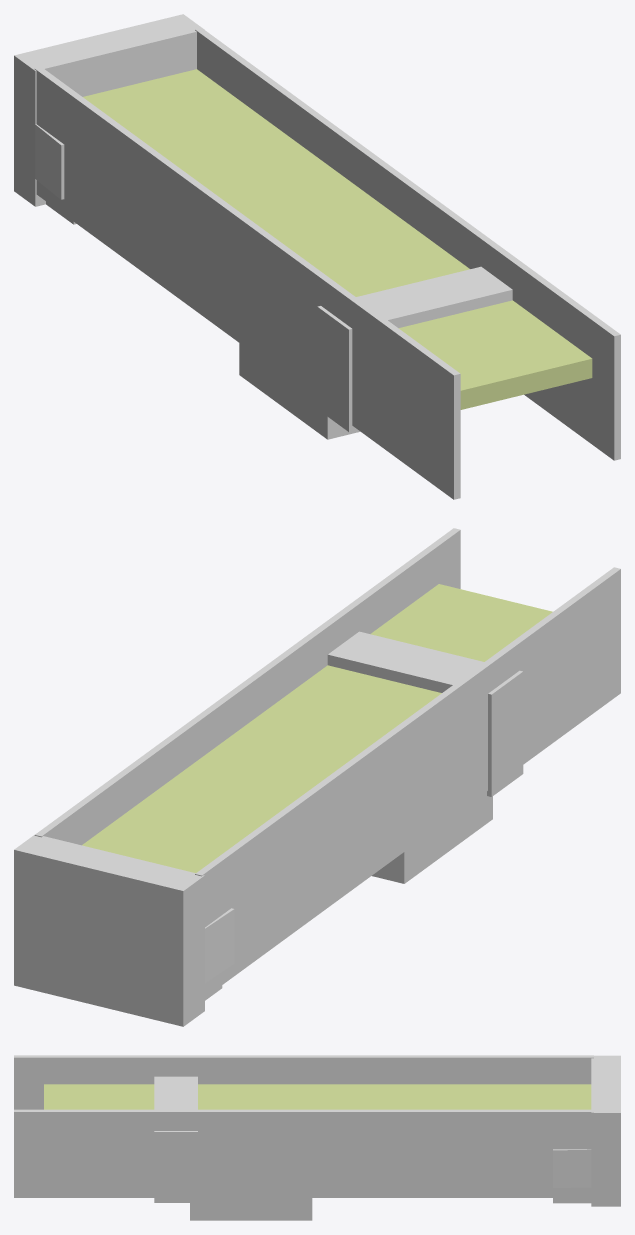
File: VRTIR.fbx
3 renders of one model, top to bottom at view 1: azimuth 30°, elevation 25°; view 2: azimuth 150°, elevation 25°; view 3: azimuth 270°, elevation 25°, orthographic. The views are drawn at different scales.
Parts seen in each view (by area): view 1: Cube.002, Cube.013, Cube.001, Cube.011, Cube.014, Cube.012; view 2: Cube.002, Cube.001, Cube.013, Cube.011, Cube.014, Cube.012; view 3: Cube.001, Cube.013, Cube.002, Cube.011, Cube.014, Cube.012.
Part boxes in pixels (box(x1,y1,x2,y2)): Cube.002: box(83, 69, 592, 409); Cube.013: box(244, 181, 620, 499); Cube.001: box(34, 28, 411, 346); Cube.011: box(14, 14, 204, 224); Cube.014: box(317, 266, 512, 431); Cube.012: box(239, 343, 360, 439); Cube.002: box(82, 584, 552, 872); Cube.001: box(34, 681, 411, 997); Cube.013: box(245, 528, 620, 846); Cube.011: box(14, 834, 234, 1026); Cube.014: box(327, 631, 523, 796); Cube.012: box(372, 791, 492, 883); Cube.001: box(303, 1055, 593, 1197); Cube.013: box(14, 1055, 304, 1197); Cube.002: box(44, 1084, 591, 1109); Cube.011: box(553, 1055, 620, 1206); Cube.014: box(154, 1076, 197, 1202); Cube.012: box(190, 1198, 312, 1220).
Bounding box in the file's own units: 939 × 811 × 4094.
